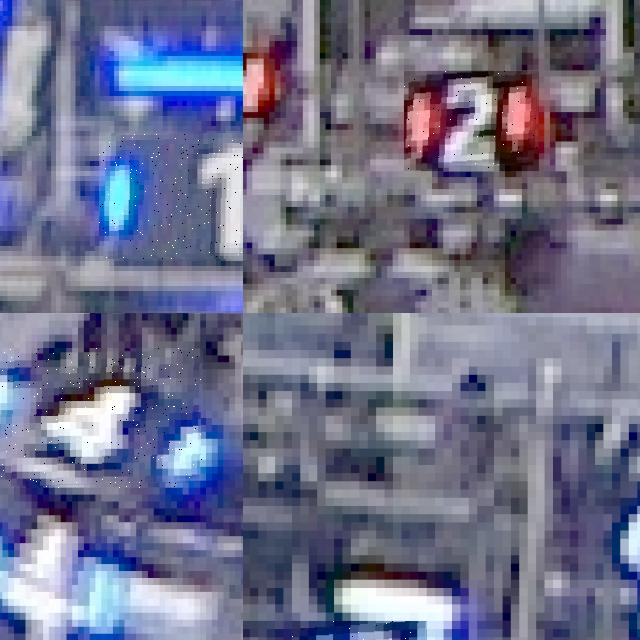B1: (99, 133, 243, 258)
B2: (292, 620, 426, 640)
B4: (0, 348, 203, 487), (0, 498, 130, 640)
R2: (404, 71, 539, 171)
